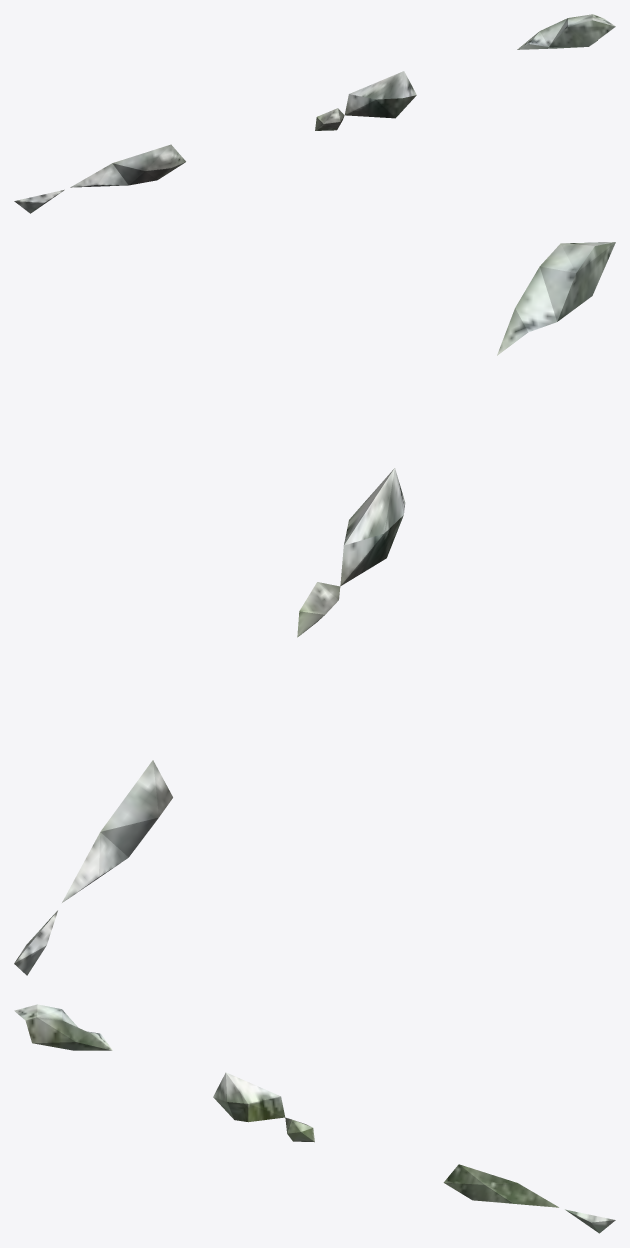
3 views of the same model, one above another, from view 1: azimuth 90°, elevation 25°; view 2: azimuth 150°, elevation 25°; view 3: azimuth 270°, elevation 25° (orthographic). The views are drawn at different scales.
Size of the model in its own units: 0.1865 by 0.8561 by 2.21.
Materials: 1 (1 with a texture image).
